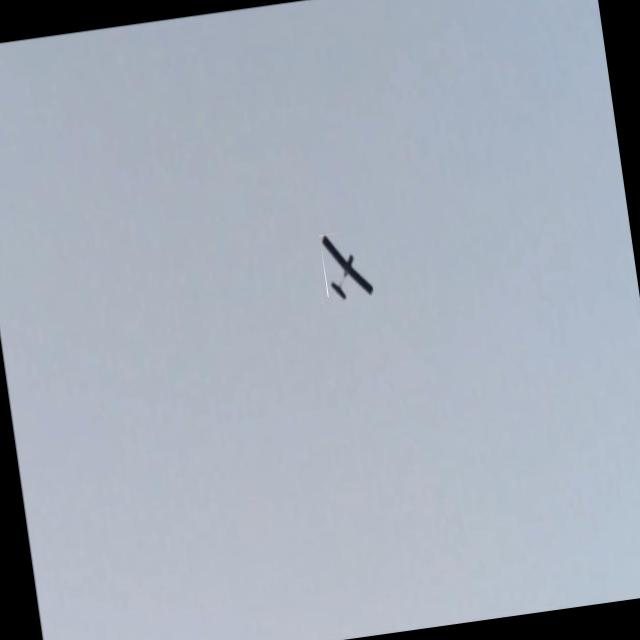UAV: (304, 212, 387, 312)
